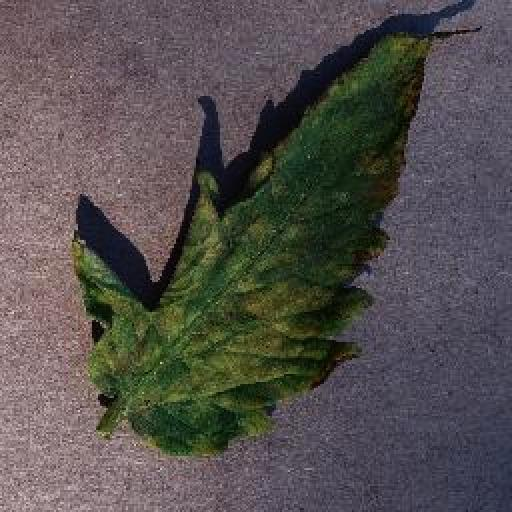disease_tomato: (71, 24, 431, 458)
